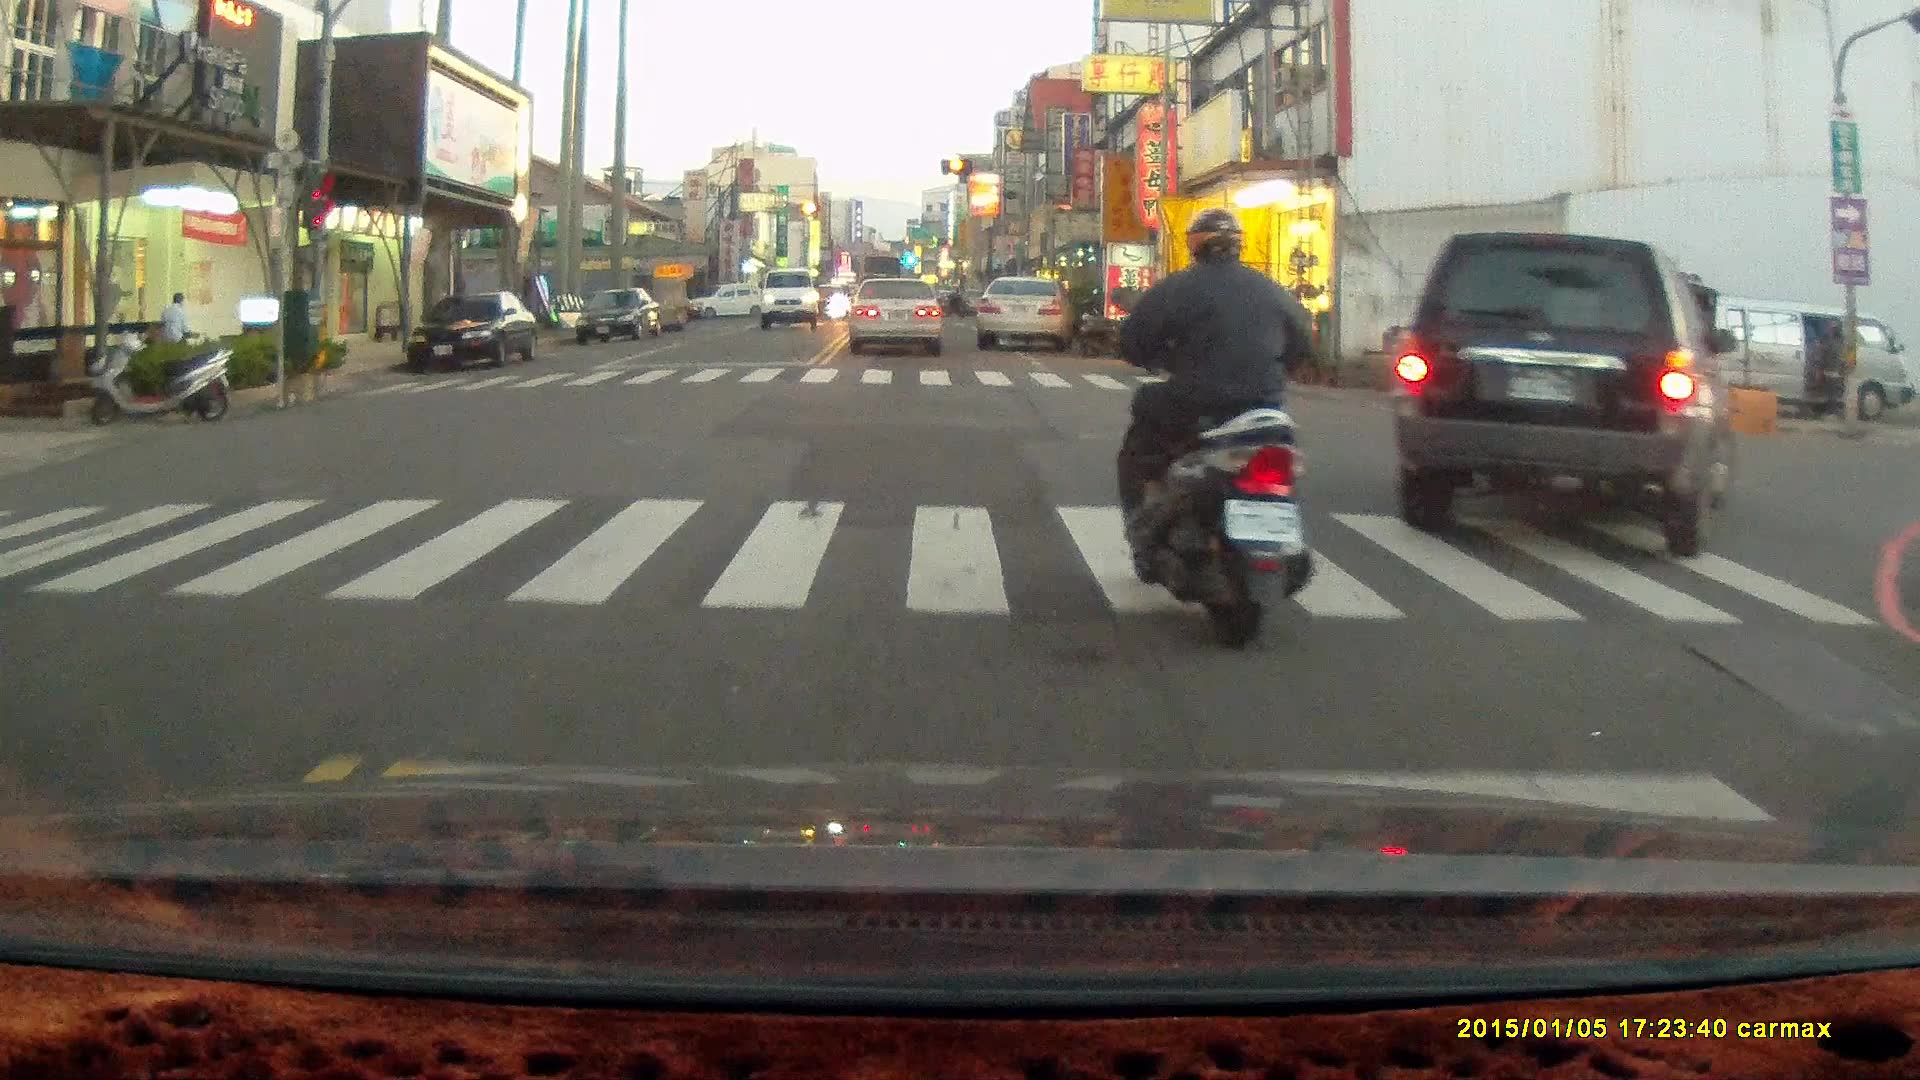pedestrian: (158, 291, 195, 358), (1821, 329, 1846, 420)
rider: (1109, 211, 1321, 659)
vehicle: (1400, 236, 1741, 560), (1667, 296, 1912, 425), (408, 299, 538, 387), (972, 268, 1076, 349), (849, 279, 945, 360), (575, 292, 664, 352), (761, 270, 823, 335)
